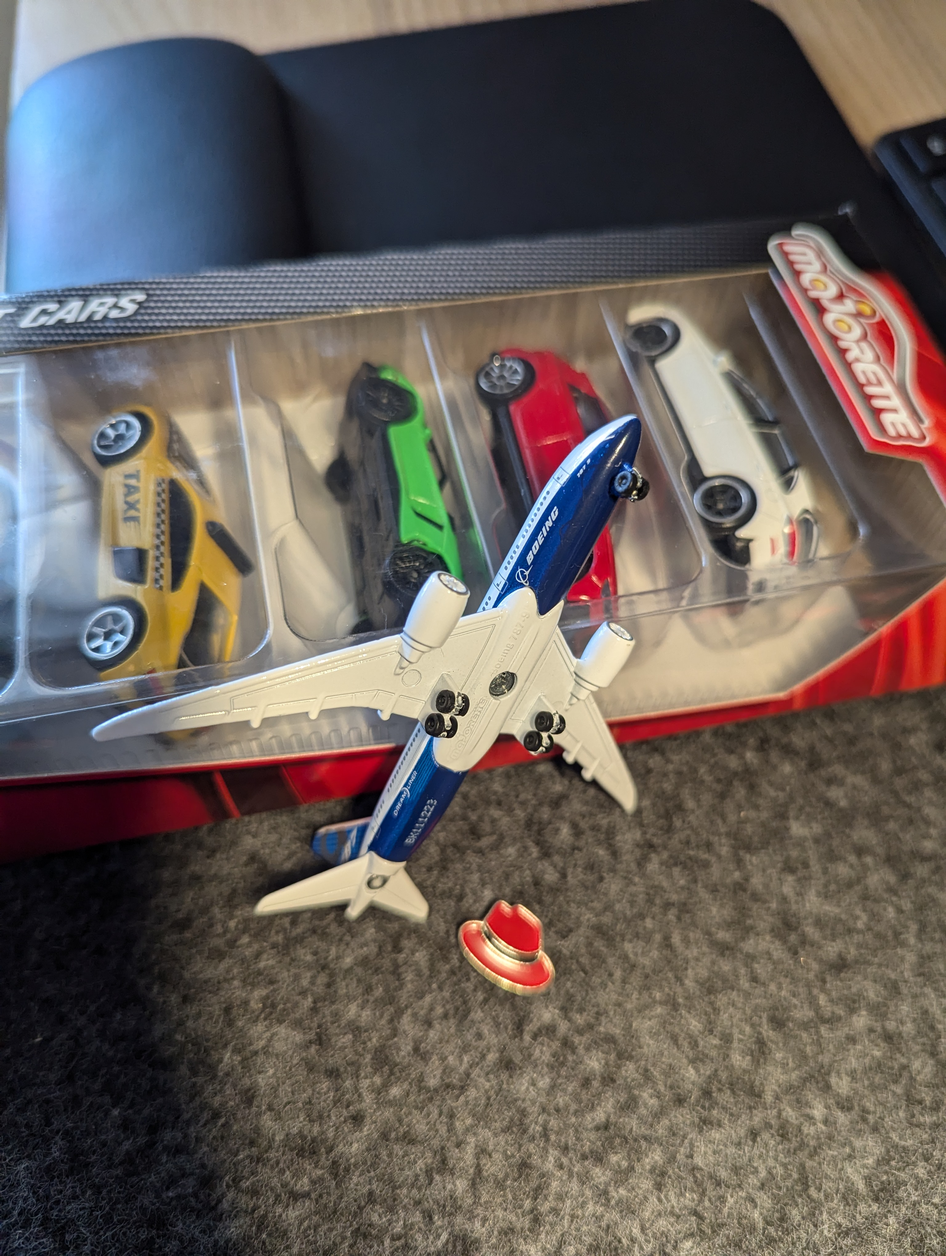Airplane: (86, 394, 664, 943)
Car: (618, 274, 852, 622), (69, 369, 272, 747), (314, 339, 494, 681)
Red-Hat: (447, 884, 570, 999)
